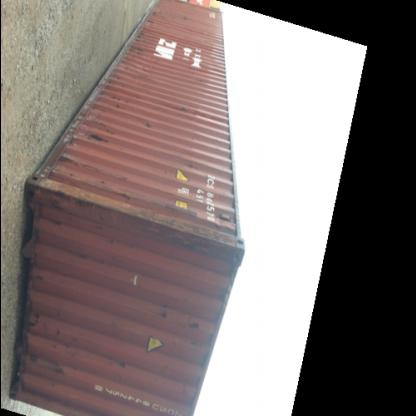Damage: (37, 186, 95, 233), (96, 70, 146, 110), (23, 296, 44, 370), (46, 154, 96, 182), (105, 172, 145, 206), (139, 3, 168, 38), (186, 314, 209, 356), (71, 124, 114, 146), (122, 40, 160, 64), (50, 320, 74, 354), (50, 360, 74, 393), (30, 251, 50, 287), (109, 353, 135, 379), (160, 288, 176, 324), (72, 253, 112, 267), (176, 101, 202, 117), (138, 115, 161, 132), (186, 157, 206, 173), (108, 232, 122, 248), (179, 12, 197, 23)
